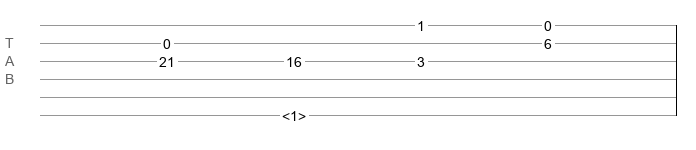0: (163, 36, 171, 46), (544, 18, 552, 28)
1: (417, 18, 425, 28)
16: (286, 54, 302, 64)
21: (159, 54, 175, 64)
3: (417, 54, 425, 64)
6: (544, 36, 552, 46)
harmonic: (282, 108, 306, 118)
